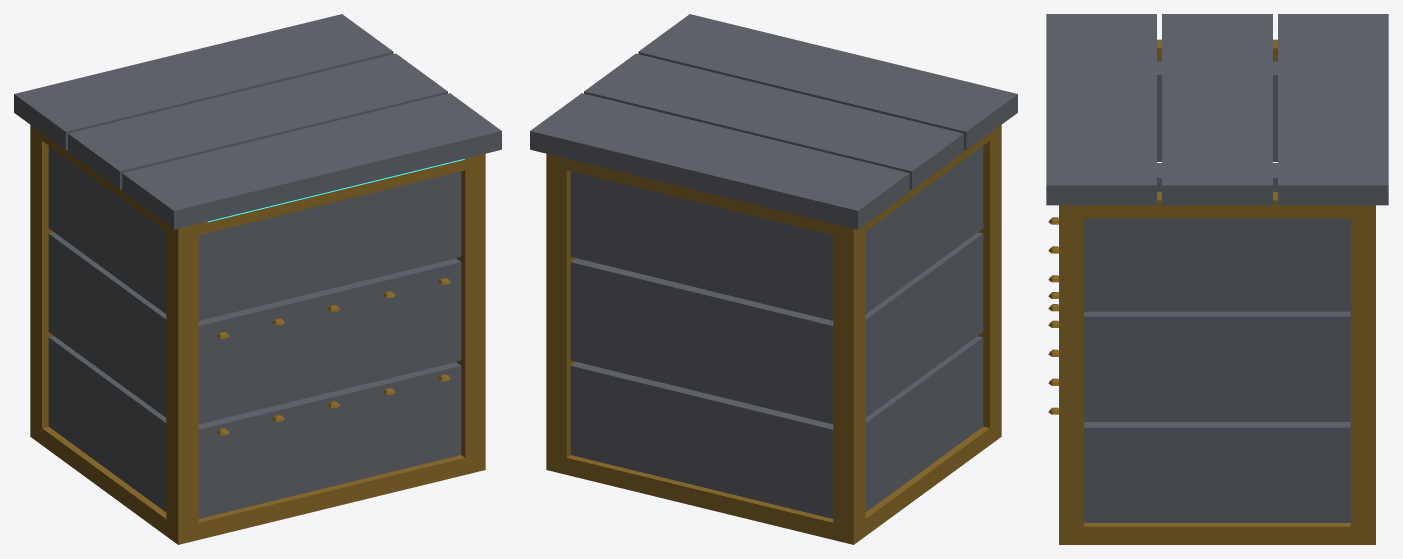
The model's file is SM_Crate_Dvergr_08_Closed.glb.
3 renders of one model, left to right at view 1: azimuth 30°, elevation 25°; view 2: azimuth 150°, elevation 25°; view 3: azimuth 270°, elevation 25°, orthographic. The views are drawn at different scales.
Parts seen in each view (by area): view 1: SM_Crate_Dvergr_08_Closed_Panels, SM_Crate_Dvergr_08_Closed_Lid, SM_Crate_Dvergr_08_Closed_Frame; view 2: SM_Crate_Dvergr_08_Closed_Panels, SM_Crate_Dvergr_08_Closed_Lid, SM_Crate_Dvergr_08_Closed_Frame; view 3: SM_Crate_Dvergr_08_Closed_Panels, SM_Crate_Dvergr_08_Closed_Lid, SM_Crate_Dvergr_08_Closed_Frame.
Part boxes in pixels (box(x1,y1,x2,y2)): SM_Crate_Dvergr_08_Closed_Panels: box(48, 146, 461, 518); SM_Crate_Dvergr_08_Closed_Lid: box(14, 14, 501, 229); SM_Crate_Dvergr_08_Closed_Frame: box(30, 125, 485, 544); SM_Crate_Dvergr_08_Closed_Panels: box(570, 146, 983, 518); SM_Crate_Dvergr_08_Closed_Lid: box(530, 14, 1017, 229); SM_Crate_Dvergr_08_Closed_Frame: box(546, 125, 1001, 544); SM_Crate_Dvergr_08_Closed_Panels: box(1084, 91, 1350, 522); SM_Crate_Dvergr_08_Closed_Lid: box(1046, 14, 1388, 205); SM_Crate_Dvergr_08_Closed_Frame: box(1059, 39, 1375, 544).
Size of the model in its own units: 0.64 by 0.6355 by 0.54.
